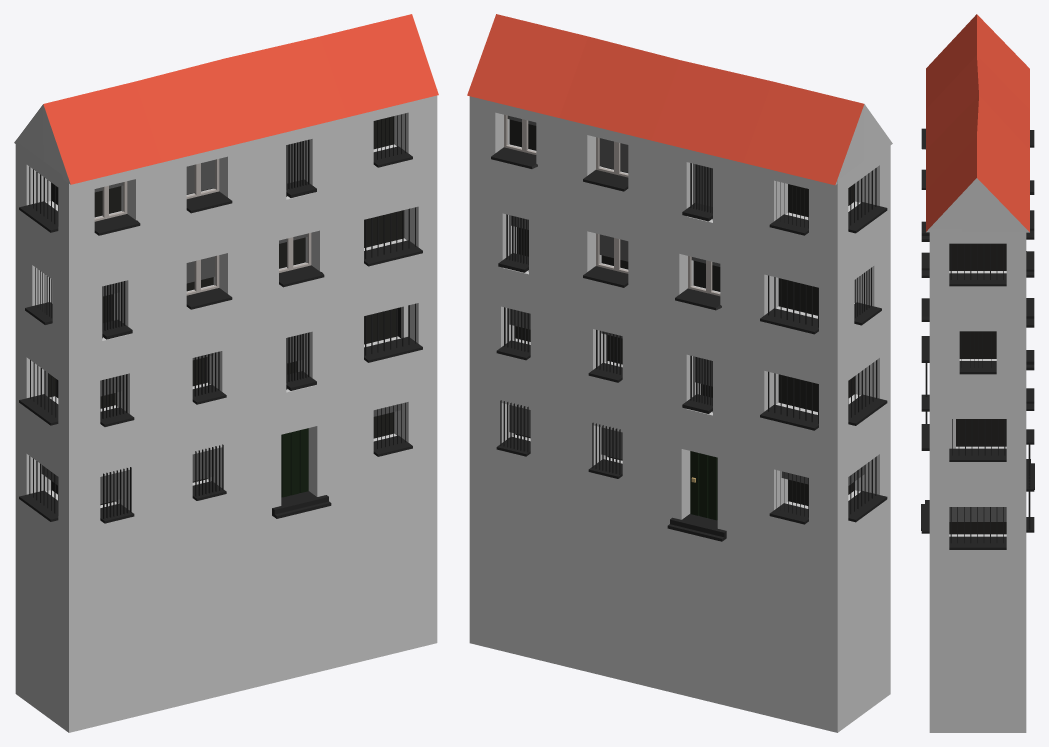
Rendered from casa procedural_relleno_Con sotano_3.fbx.
The picture shows the model from 3 angles, left to right: view 1: azimuth 30°, elevation 25°; view 2: azimuth 150°, elevation 25°; view 3: azimuth 270°, elevation 25°; orthographic projection. The views are drawn at different scales.
Parts seen in each view (by area): view 1: Procedural_Building_straight.003; view 2: Procedural_Building_straight.003; view 3: Procedural_Building_straight.003.
Boxes of the visible parts, left/top/right/bottom form: Procedural_Building_straight.003: left=14, top=14, right=438, bottom=732; Procedural_Building_straight.003: left=467, top=14, right=892, bottom=732; Procedural_Building_straight.003: left=921, top=14, right=1034, bottom=732.
Size of the model in its own units: 416 by 633 by 118.
